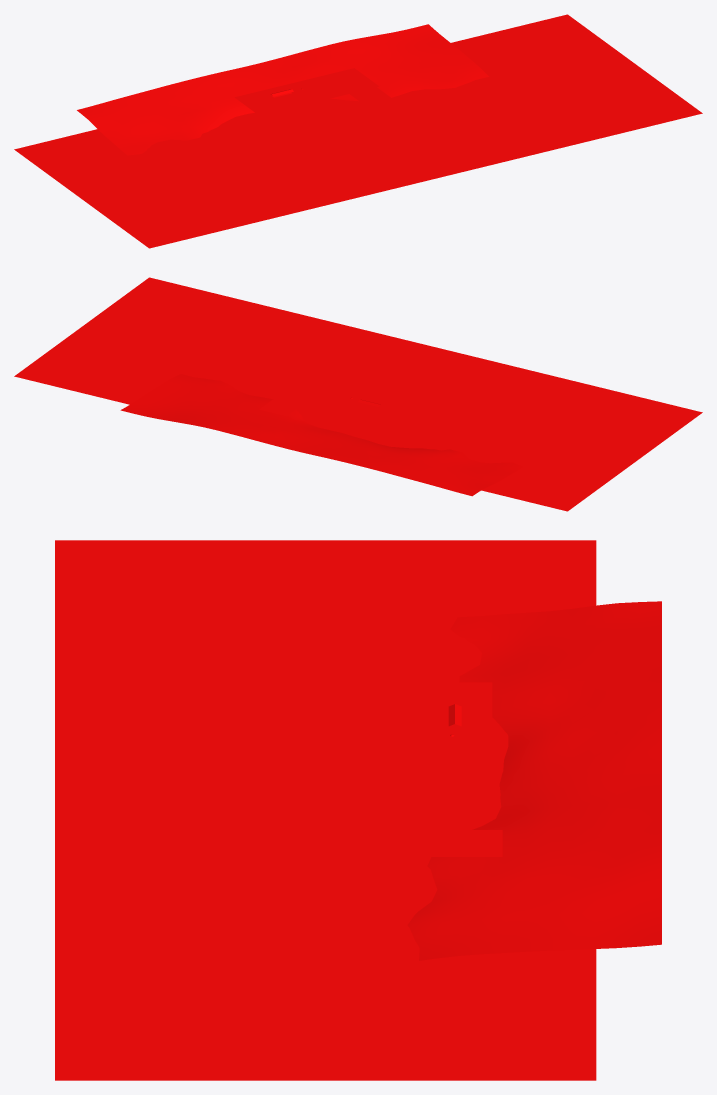
Rendered from System Rain Collision.FBX.
The picture shows the model from 3 angles, top to bottom: view 1: azimuth 30°, elevation 25°; view 2: azimuth 150°, elevation 25°; view 3: azimuth 270°, elevation 25°; orthographic projection. The views are drawn at different scales.
Visible parts, largest first — view 1: System Rain Collision; view 2: System Rain Collision; view 3: System Rain Collision.
Boxes of the visible parts, <box> form: System Rain Collision: <box>14,14,702,248</box>; System Rain Collision: <box>14,277,702,511</box>; System Rain Collision: <box>55,540,661,1080</box>.
Bounding box in the file's own units: 114022 × 7119 × 54145.
